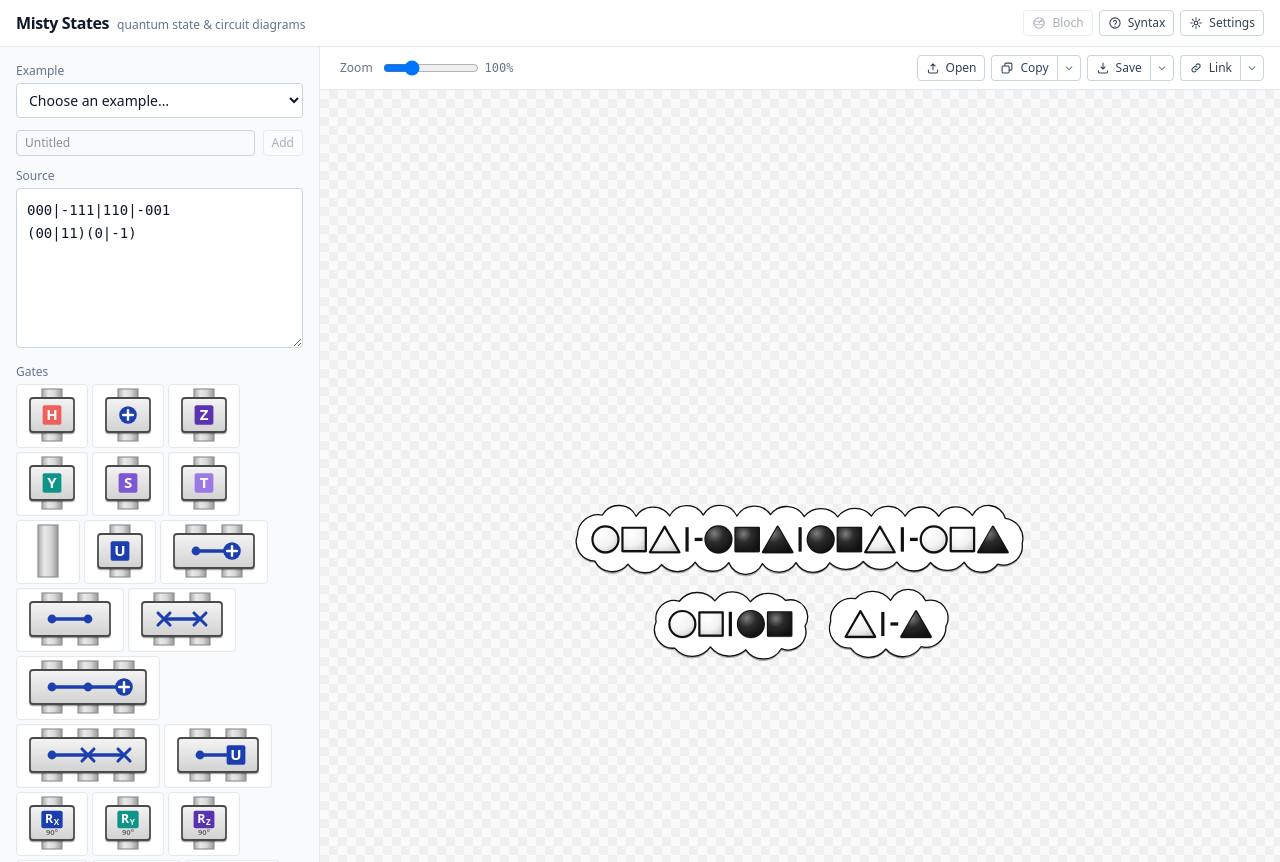
Test: the correctness badge › comes back when the diagram changes, since it is about something else now
Replace the text in the text box labelled "Source" with "00|01 = 0(0|-1)": (160, 268) x1=16 y1=188 x2=303 y2=348
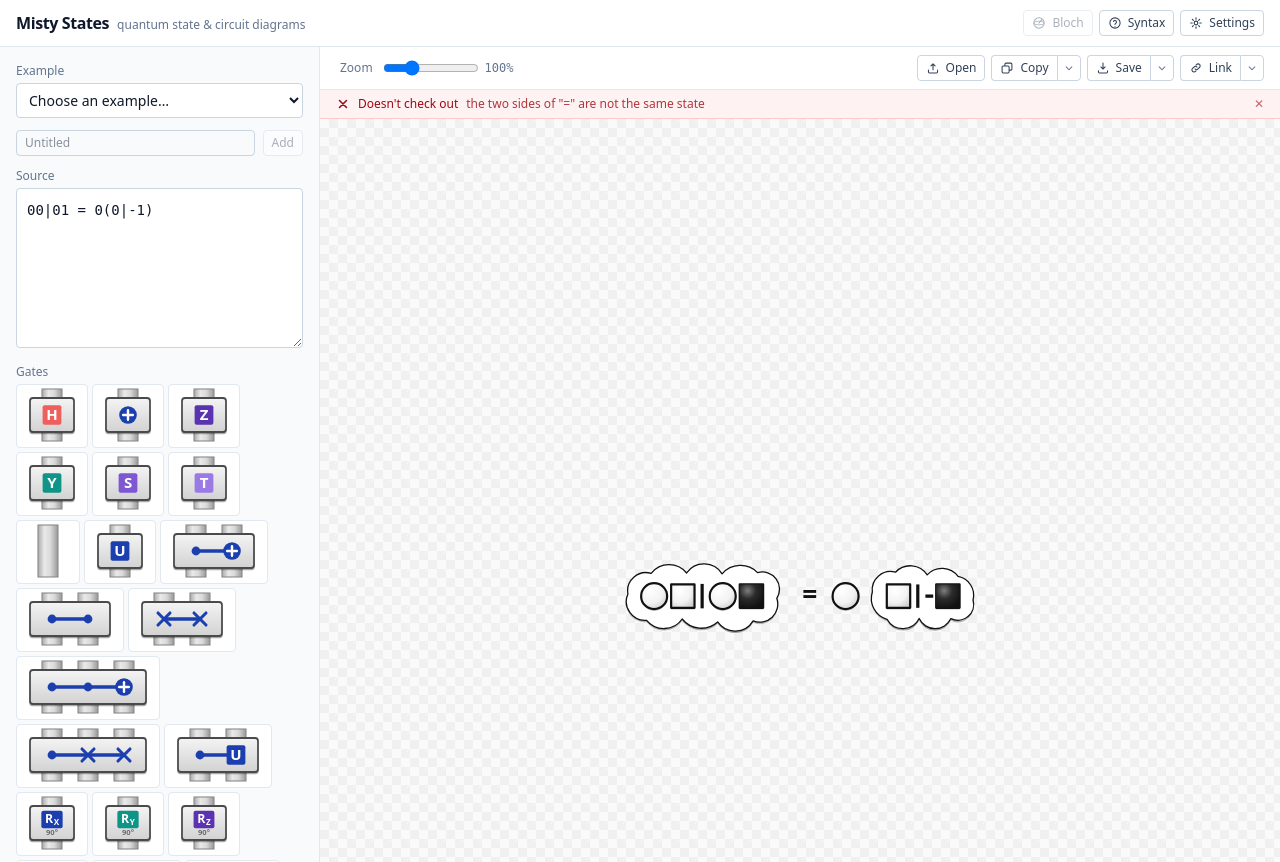
Click the button named "Dismiss the check": (1259, 104) x1=1250 y1=96 x2=1268 y2=112
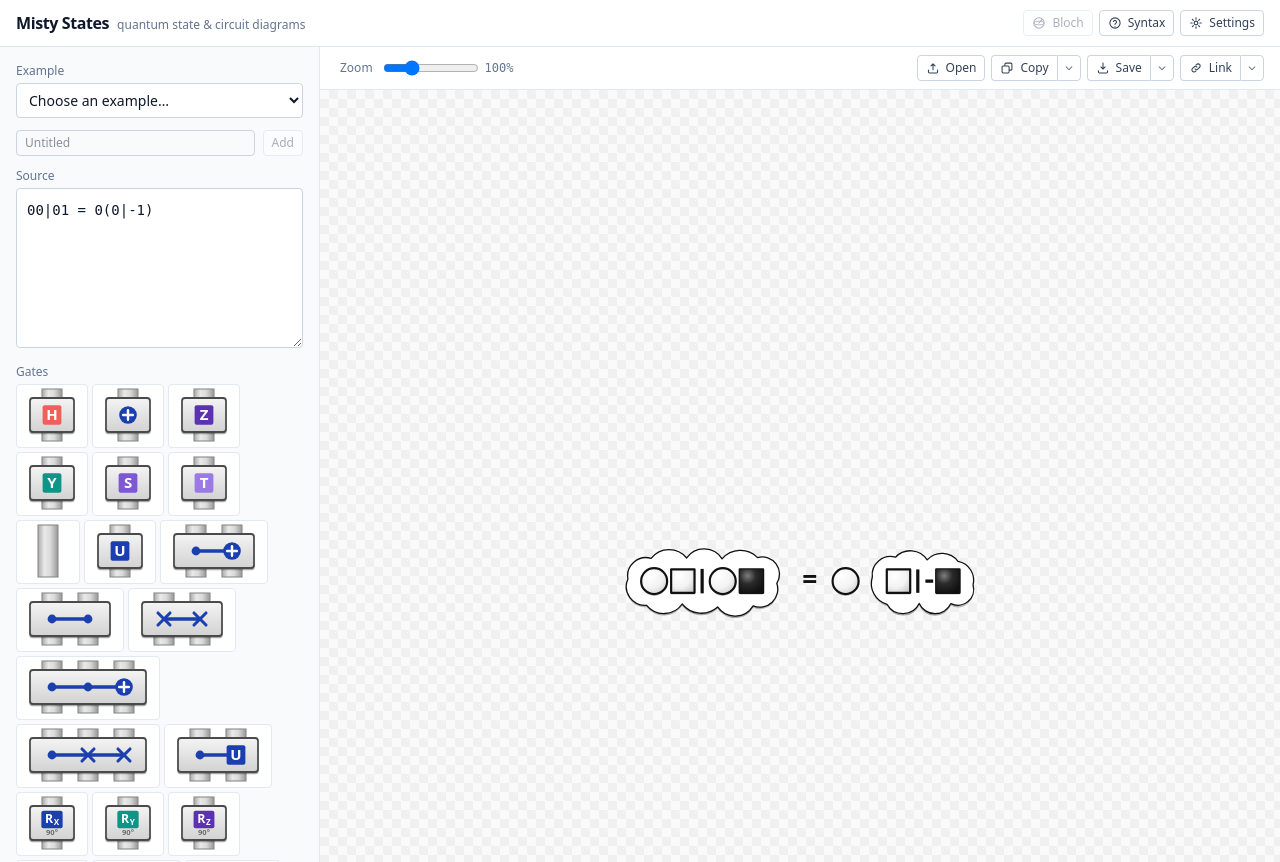
Now the message "Doesn't check out the two sides of \"=\" are not the same state ✕" is gone
Replace the text in the text box labelled "Source" with "00|01 = 0(0|-1)|0": (160, 268) x1=16 y1=188 x2=303 y2=348
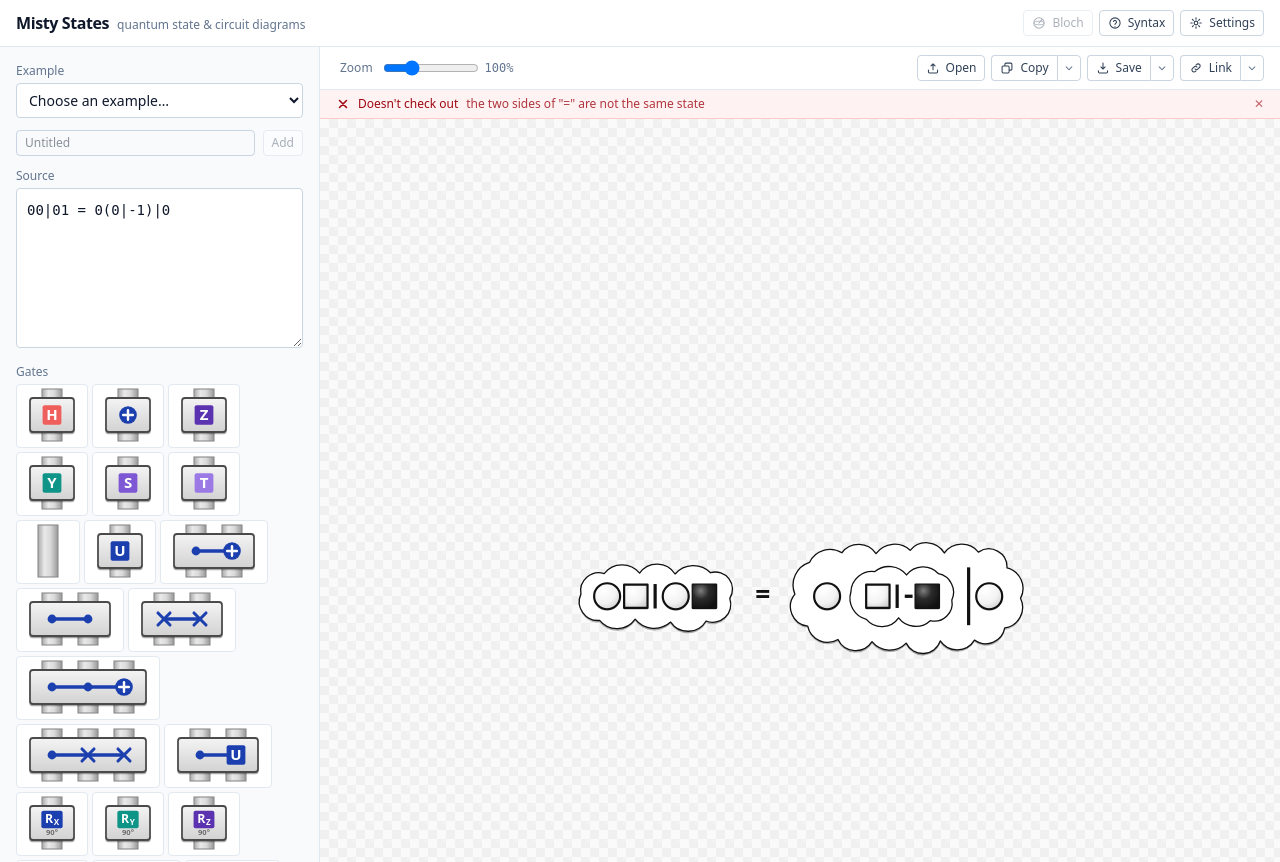
Now the message "Doesn't check out the two sides of \"=\" are not the same state ✕" is shown, box x1=320 y1=90 x2=1279 y2=119
